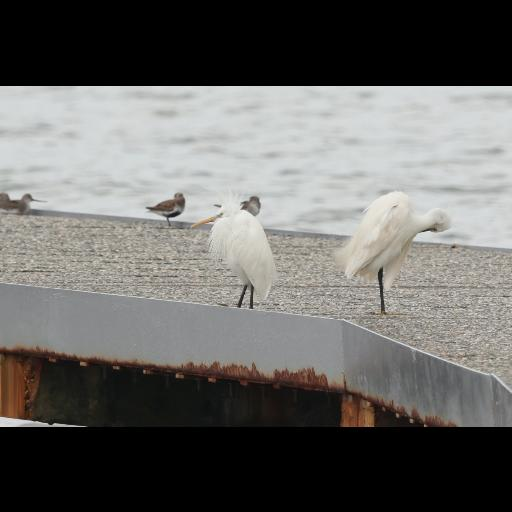chinese_egret: (190, 184, 274, 308)
